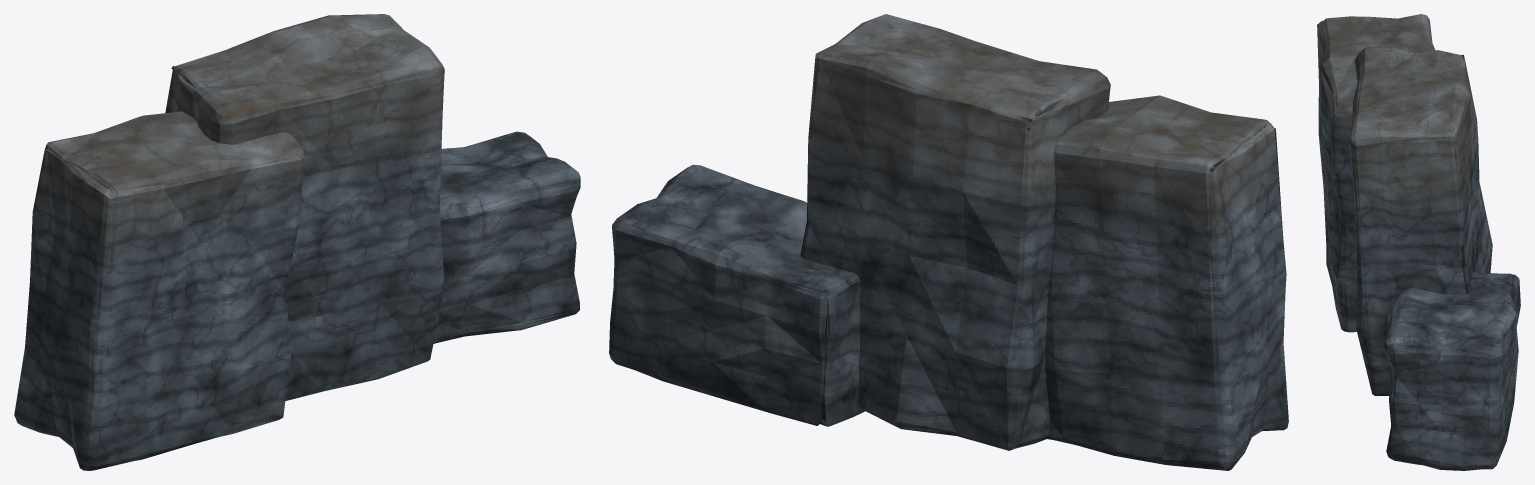
The model's file is snow_crag_b.glb.
The picture shows the model from 3 angles, left to right: view 1: azimuth 30°, elevation 25°; view 2: azimuth 150°, elevation 25°; view 3: azimuth 270°, elevation 25°; orthographic projection. The views are drawn at different scales.
Visible parts, largest first — view 1: snow_crag_b; view 2: snow_crag_b; view 3: snow_crag_b.
Part boxes in pixels (x1=…): snow_crag_b: x1=14, y1=14, x2=580, y2=470; snow_crag_b: x1=609, y1=14, x2=1288, y2=470; snow_crag_b: x1=1317, y1=14, x2=1520, y2=470.
Bounding box in the file's own units: 5.61 × 3.13 × 2.11.
1 material, 1 textured.
